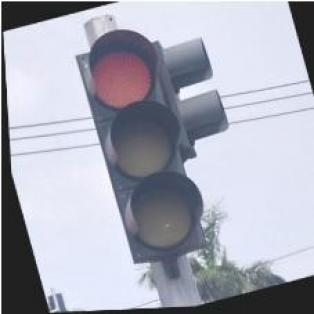Semaforo Rojo: (68, 21, 207, 271)
